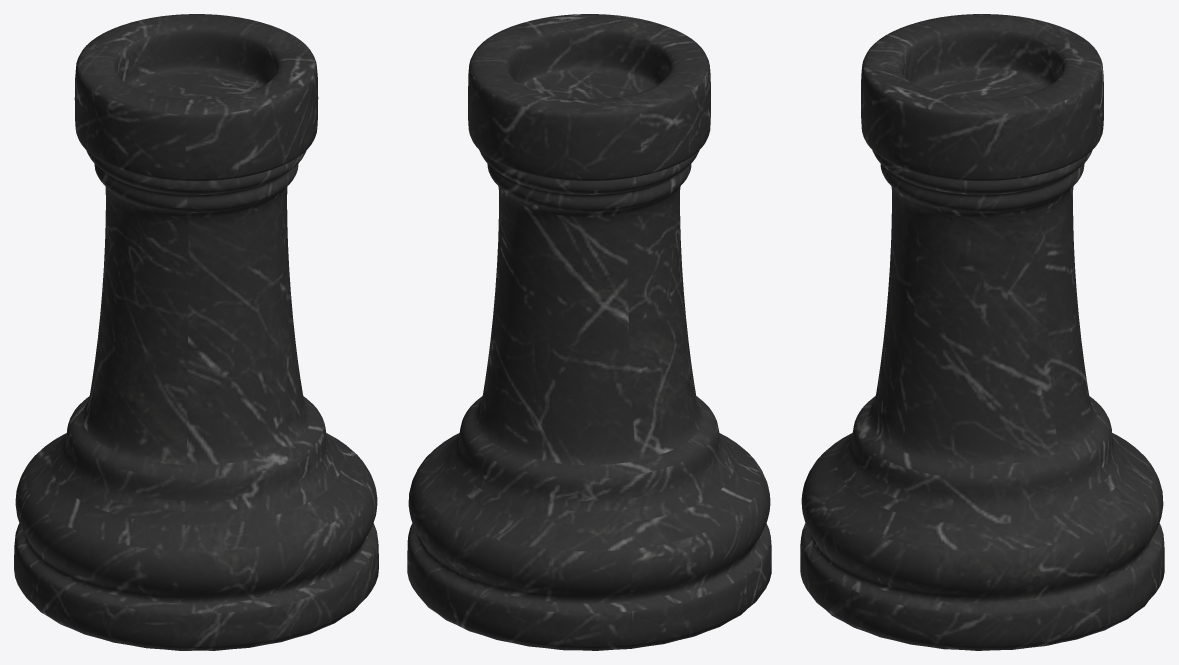
Rendered from BRook.glb.
3 views of the same model, side by side, from view 1: azimuth 30°, elevation 25°; view 2: azimuth 150°, elevation 25°; view 3: azimuth 270°, elevation 25° (orthographic).
Parts seen in each view (by area): view 1: Circle.008; view 2: Circle.008; view 3: Circle.008.
Boxes of the visible parts, bbox=[...] form: Circle.008: bbox=[14, 14, 378, 650]; Circle.008: bbox=[407, 14, 771, 650]; Circle.008: bbox=[800, 14, 1164, 650].
Size of the model in its own units: 2.67 by 4.19 by 2.67.
Materials: 1 (1 with a texture image).
